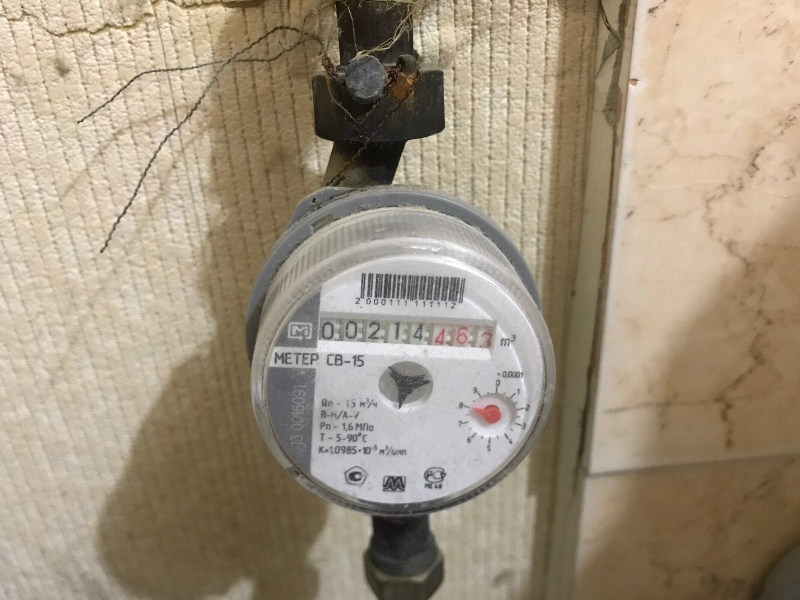meter: (317, 315, 496, 356)
